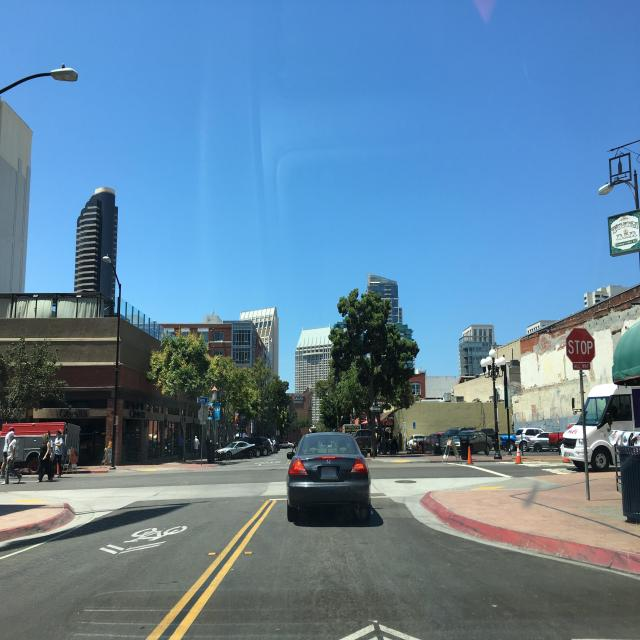Good: (393, 475, 418, 485)
